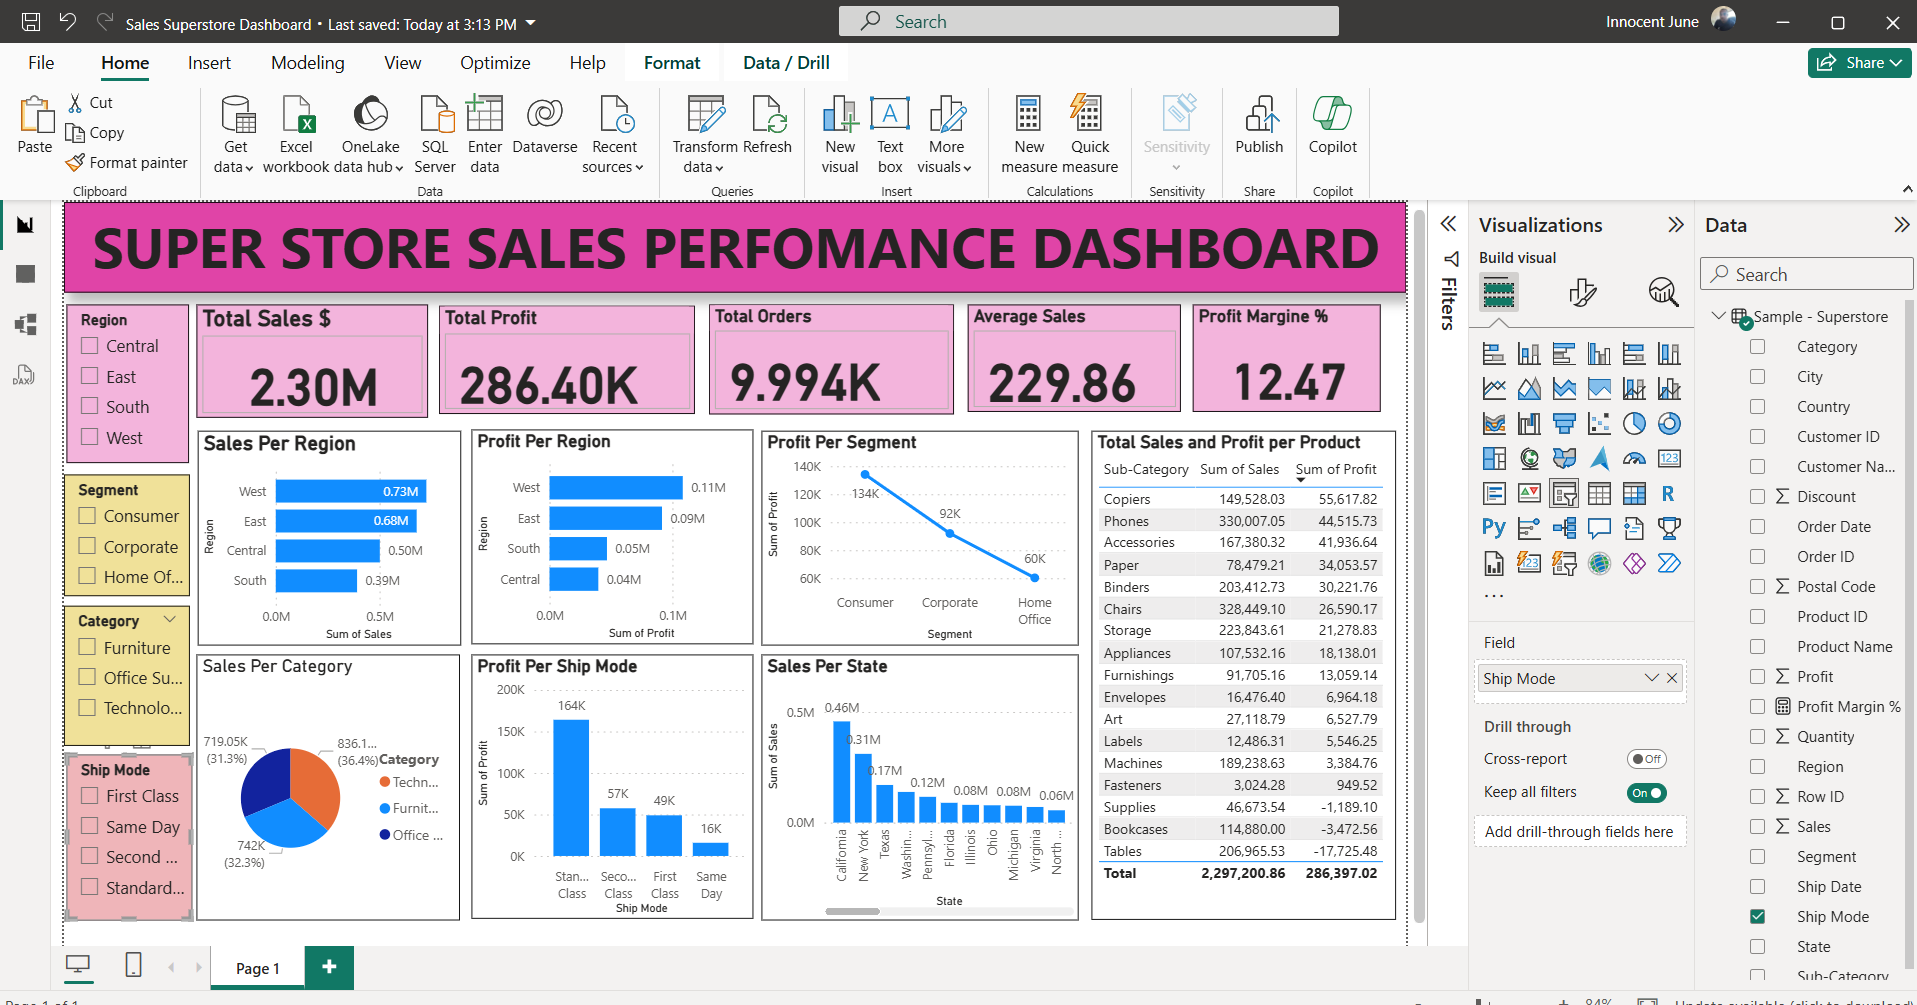

Layout of this report page (visuals, bound fields, positions):
{"tool":"powerbi","page":{"name":"Page 1","canvas":[1280,720],"ordinal":0},"visuals":[{"type":"textbox","box":[0,0,1280.2,86],"z":0},{"type":"cardVisual","title":"Total Sales $","fields":{"Data":["Sum(Sample - Superstore.Sales)"]},"box":[126,98,220.9,108.1],"z":0,"group":"g1"},{"type":"group","id":"g1","title":"Group 1","box":[126,98,1129.1,324.5],"z":1000},{"type":"cardVisual","title":"Total Orders","fields":{"Data":["CountNonNull(Sample - Superstore.Order ID)"]},"box":[614.4,98,233.7,104.7],"z":1000,"group":"g1"},{"type":"cardVisual","title":"Average Sales","fields":{"Data":["Avg(Sample - Superstore.Sales)"]},"box":[862,98,203.5,102.3],"z":2000,"group":"g1"},{"type":"barChart","title":"Profit Per Region","fields":{"Category":["Sample - Superstore.Region"],"Y":["Sum(Sample - Superstore.Profit)"]},"box":[388.4,217.4,268.6,204.7],"z":2000},{"type":"cardVisual","title":"Profit Margine %","fields":{"Data":["Sample - Superstore.Profit Margin %"]},"box":[1076.1,98.1,179.1,102.3],"z":3000,"group":"g1"},{"type":"lineChart","title":"Profit Per Segment","fields":{"Category":["Sample - Superstore.Segment"],"Y":["Sum(Sample - Superstore.Profit)"]},"box":[665.1,218.6,302.3,204.7],"z":3000},{"type":"cardVisual","title":"Total Profit","fields":{"Data":["Sum(Sample - Superstore.Profit)"]},"box":[357.5,99.2,244.2,103.5],"z":4000,"group":"g1"},{"type":"pieChart","title":"Sales Per Category","fields":{"Category":["Sample - Superstore.Category"],"Y":["Sum(Sample - Superstore.Sales)"]},"box":[126.7,431.4,251.2,253.5],"z":4000},{"type":"barChart","title":"Sales Per Region","fields":{"Category":["Sample - Superstore.Region"],"Y":["Sum(Sample - Superstore.Sales)"]},"box":[127.2,217.8,251.2,204.7],"z":5000,"group":"g1"},{"type":"tableEx","title":"Total Sales and Profit per Product","fields":{"Values":["Sample - Superstore.Sub-Category","Sum(Sample - Superstore.Sales)","Sum(Sample - Superstore.Profit)"]},"box":[980.2,218.6,290.7,466.3],"z":5000},{"type":"columnChart","title":"Sales Per State","fields":{"Category":["Sample - Superstore.State"],"Y":["Sum(Sample - Superstore.Sales)"]},"box":[665.1,431.4,302.3,253.5],"z":6000},{"type":"columnChart","title":"Profit Per Ship Mode","fields":{"Category":["Sample - Superstore.Ship Mode"],"Y":["Sum(Sample - Superstore.Profit)"]},"box":[388.4,431.4,268.6,252.3],"z":7000},{"type":"slicer","fields":{"Values":["Sample - Superstore.Region"]},"box":[2.4,97.7,116.8,151.4],"z":8000},{"type":"slicer","fields":{"Values":["Sample - Superstore.Segment"]},"box":[0,259.9,120.4,115.6],"z":9000},{"type":"slicer","fields":{"Values":["Sample - Superstore.Ship Mode"]},"box":[2.4,526.9,120.4,158.5],"z":9001},{"type":"slicer","fields":{"Values":["Sample - Superstore.Category"]},"box":[0,385,120.4,133.5],"z":9002}]}

Visuals, with their boxes on the page's 1280x720 design canvas (x1, y1, x2, y2). These are canvas units, not pixel positions in the 1917x1005 screenshot, which may show the page scaled, cropped or inside an application window:
textbox: (0, 0, 1280, 86)
"Total Sales $" cardVisual: (126, 98, 347, 206)
"Group 1" group: (126, 98, 1255, 422)
"Total Orders" cardVisual: (614, 98, 848, 203)
"Average Sales" cardVisual: (862, 98, 1066, 200)
"Profit Per Region" barChart: (388, 217, 657, 422)
"Profit Margine %" cardVisual: (1076, 98, 1255, 200)
"Profit Per Segment" lineChart: (665, 219, 967, 423)
"Total Profit" cardVisual: (358, 99, 602, 203)
"Sales Per Category" pieChart: (127, 431, 378, 685)
"Sales Per Region" barChart: (127, 218, 378, 422)
"Total Sales and Profit per Product" tableEx: (980, 219, 1271, 685)
"Sales Per State" columnChart: (665, 431, 967, 685)
"Profit Per Ship Mode" columnChart: (388, 431, 657, 684)
slicer - Sample - Superstore.Region: (2, 98, 119, 249)
slicer - Sample - Superstore.Segment: (0, 260, 120, 376)
slicer - Sample - Superstore.Ship Mode: (2, 527, 123, 685)
slicer - Sample - Superstore.Category: (0, 385, 120, 518)
